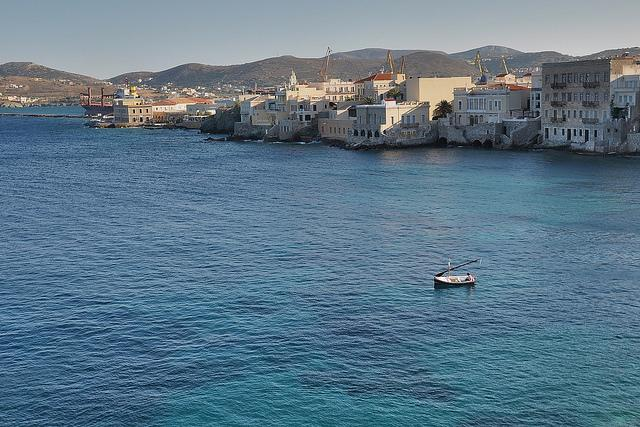otherboat: (428, 259, 483, 288)
